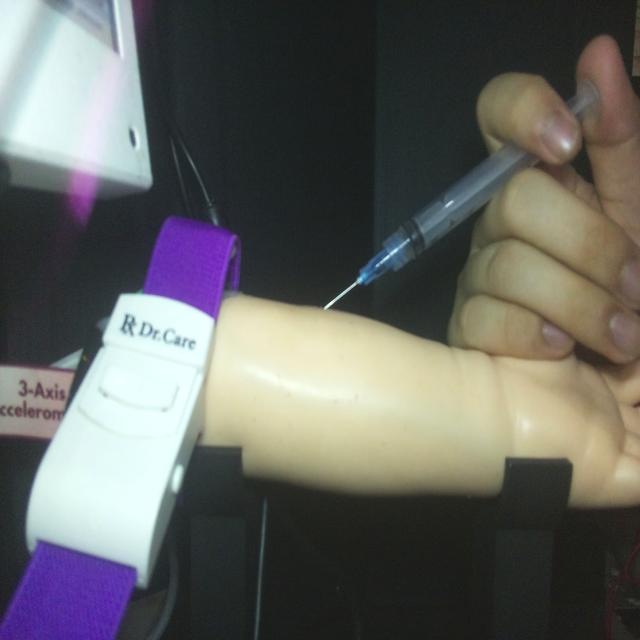29 degrees: (322, 75, 602, 312)
